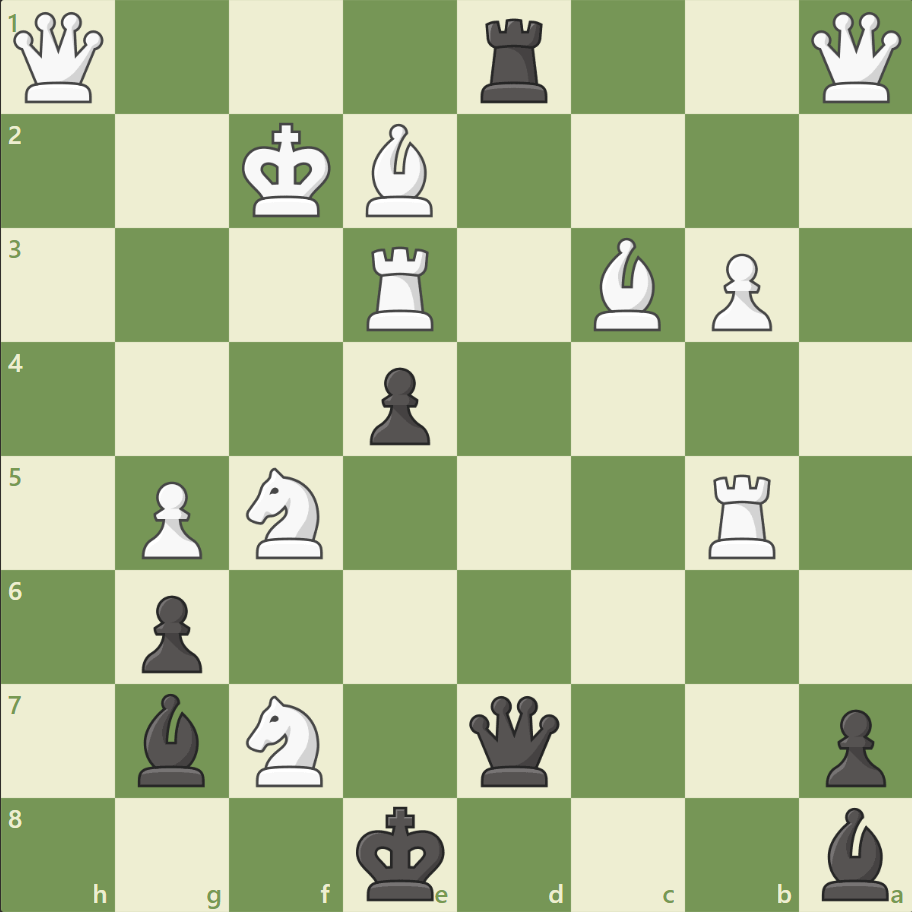B: (585, 233, 669, 336), (358, 120, 442, 222)
K: (238, 117, 338, 225)
N: (238, 688, 335, 791), (238, 461, 335, 564)
P: (133, 473, 208, 564), (701, 246, 776, 337)
Q: (805, 9, 904, 108), (10, 9, 109, 108)
R: (700, 466, 783, 563), (360, 239, 442, 336)
b: (812, 801, 896, 904), (131, 687, 215, 790)
k: (351, 798, 451, 906)
p: (133, 586, 208, 677), (815, 700, 889, 791), (361, 359, 435, 450)
q: (464, 690, 563, 789)
r: (473, 12, 556, 109)
